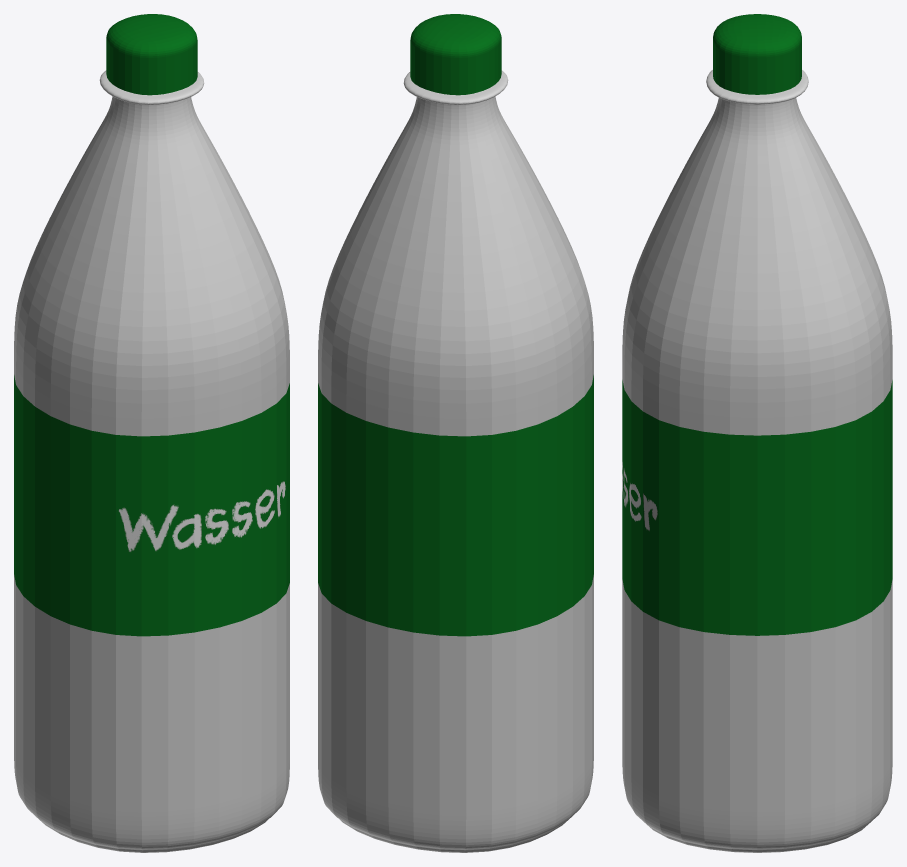
Rendered from Wasser.fbx.
The picture shows the model from 3 angles, left to right: view 1: azimuth 30°, elevation 25°; view 2: azimuth 150°, elevation 25°; view 3: azimuth 270°, elevation 25°; orthographic projection.
Parts seen in each view (by area): view 1: Wasser, Wasser_open; view 2: Wasser, Wasser_open; view 3: Wasser, Wasser_open.
Part boxes in pixels (<box>): Wasser: <box>14,14,289,852</box>; Wasser_open: <box>102,71,201,100</box>; Wasser: <box>318,14,593,852</box>; Wasser_open: <box>406,71,505,100</box>; Wasser: <box>622,14,892,852</box>; Wasser_open: <box>709,71,805,99</box>.
Size of the model in its own units: 182 by 583 by 182.
Materials: 2 (1 with a texture image).
